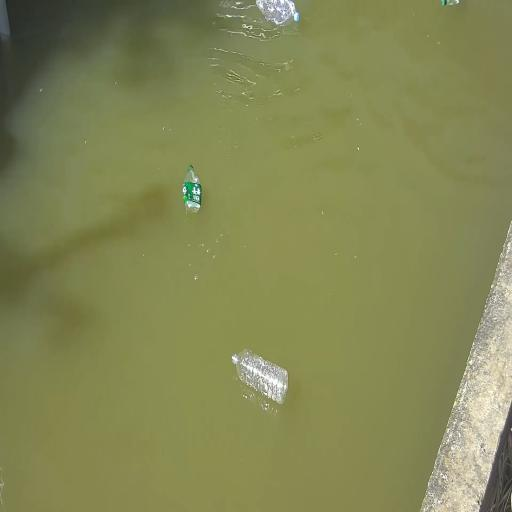plastic: (232, 347, 290, 406), (255, 0, 301, 28), (182, 164, 203, 216), (438, 0, 463, 9)
